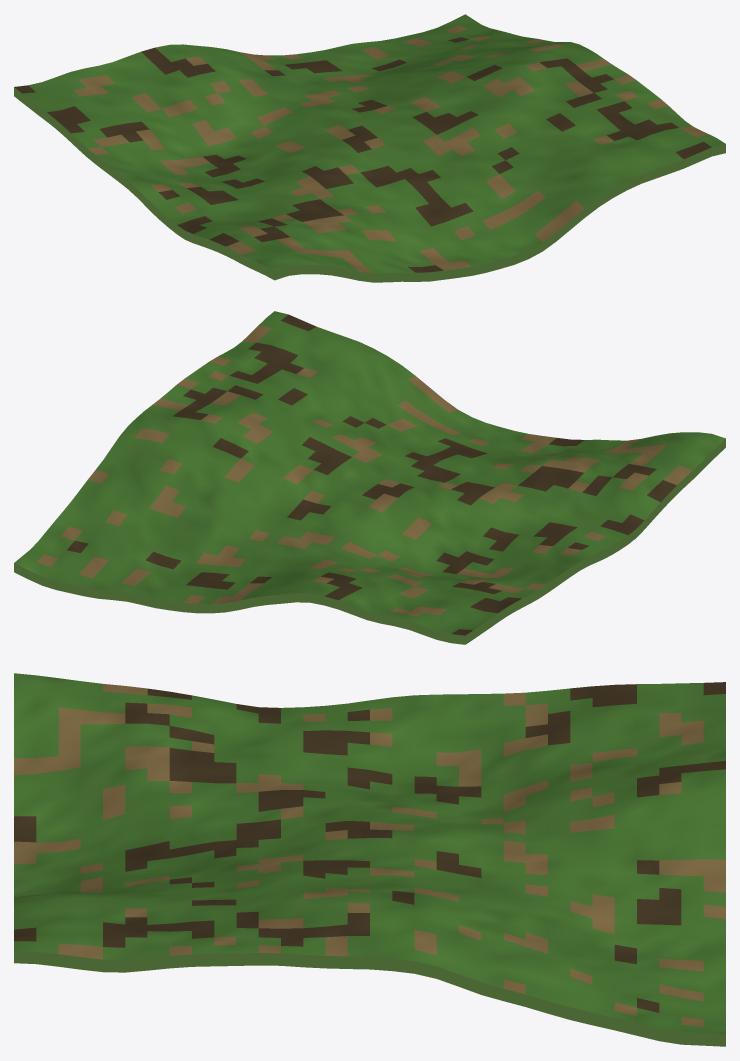
The model's file is chunk_0_5_lod1.glb.
The picture shows the model from 3 angles, top to bottom: view 1: azimuth 30°, elevation 25°; view 2: azimuth 150°, elevation 25°; view 3: azimuth 270°, elevation 25°; orthographic projection. The views are drawn at different scales.
Parts seen in each view (by area): view 1: Surface_Grass, Surface_Dirt, Surface_Mud, Skirt; view 2: Surface_Grass, Surface_Dirt, Surface_Mud, Skirt; view 3: Surface_Grass, Surface_Dirt, Surface_Mud, Skirt.
Boxes of the visible parts, x1,y1,x2,y2 form: Surface_Grass: (22, 14, 725, 273); Surface_Dirt: (73, 25, 709, 273); Surface_Mud: (14, 37, 711, 272); Skirt: (14, 87, 725, 282); Surface_Grass: (14, 311, 725, 633); Surface_Dirt: (36, 325, 692, 616); Surface_Mud: (67, 314, 676, 635); Skirt: (14, 439, 725, 644); Surface_Grass: (14, 673, 725, 1033); Surface_Dirt: (14, 684, 725, 1026); Surface_Mud: (14, 682, 725, 1012); Skirt: (14, 950, 725, 1046).
Bounding box in the file's own units: 256 × 42.45 × 256.
